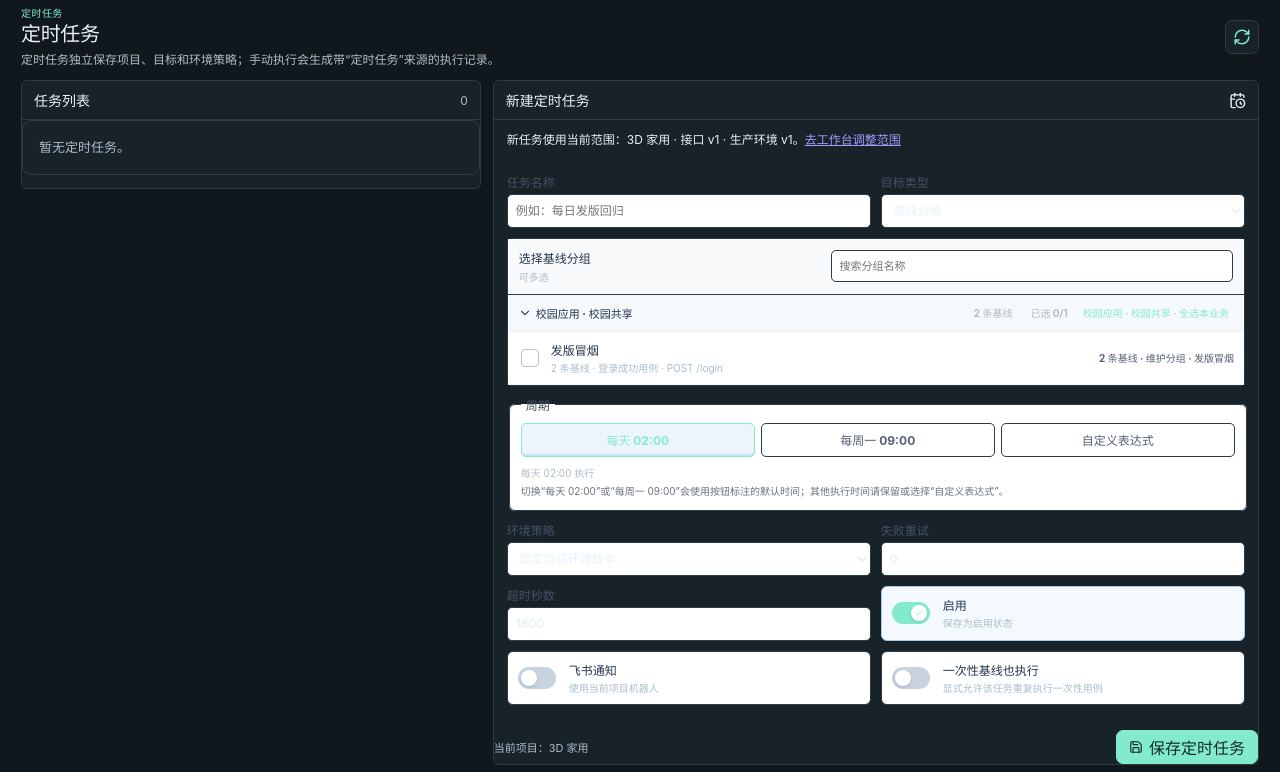
Scenario: ScheduledJobsView › requires and persists an explicit opt-in before scheduling one-time baselines
Step 1. Type "每日含一次性回归" into the field with test id "scheduled-name" → (689, 211), box [507, 194, 871, 228]
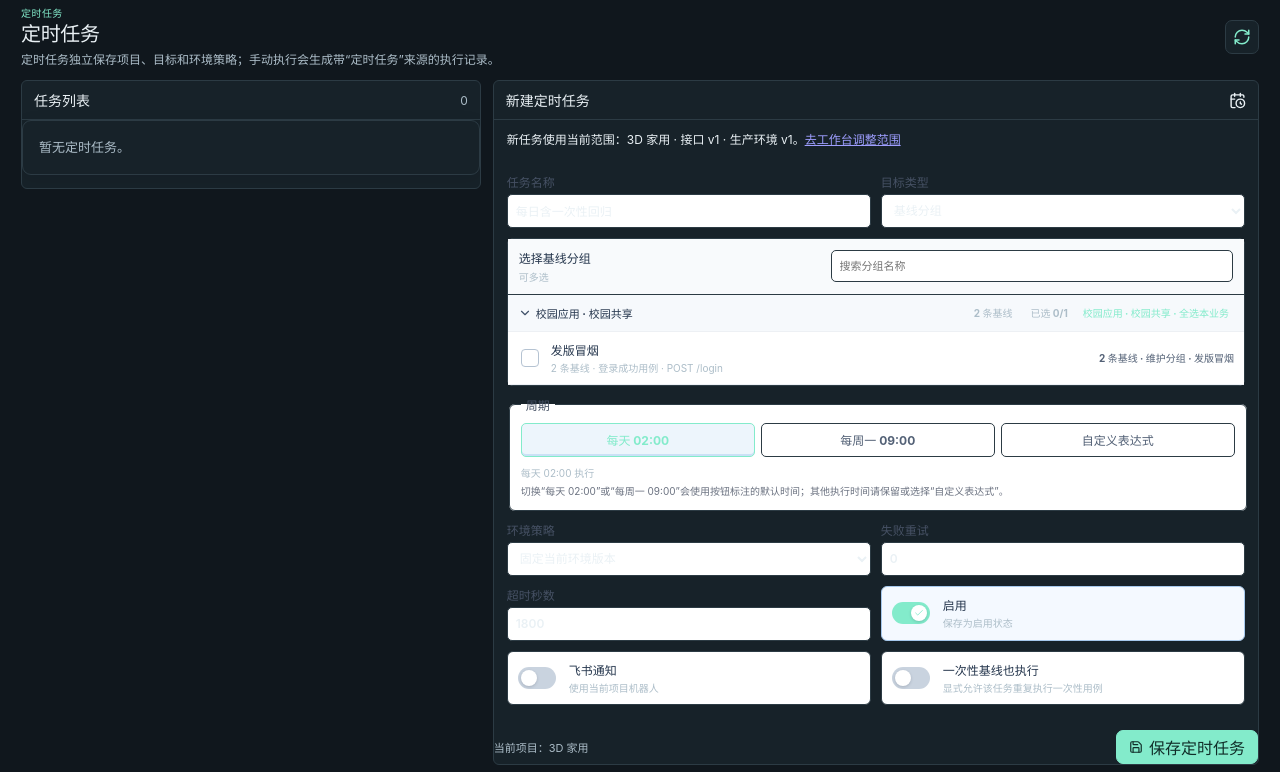
Step 2. Click the button with test id "scheduled-target-option" → (575, 350), box [508, 332, 1244, 384]
(page scrolled)
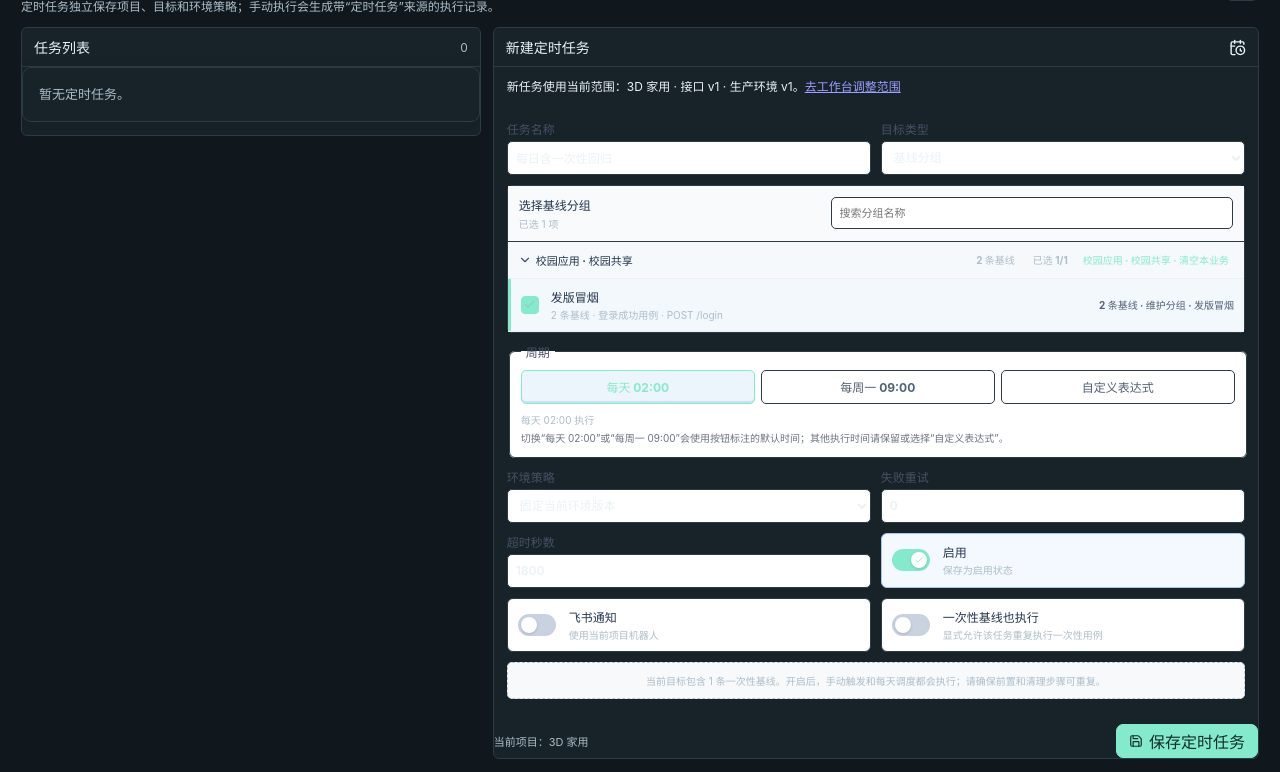
Expected: the text "包含 1 条一次性基线" is shown, [646, 675, 1106, 687]
Step 3. Click the button with test id "scheduled-save" → (1187, 741), box [1116, 724, 1258, 758]
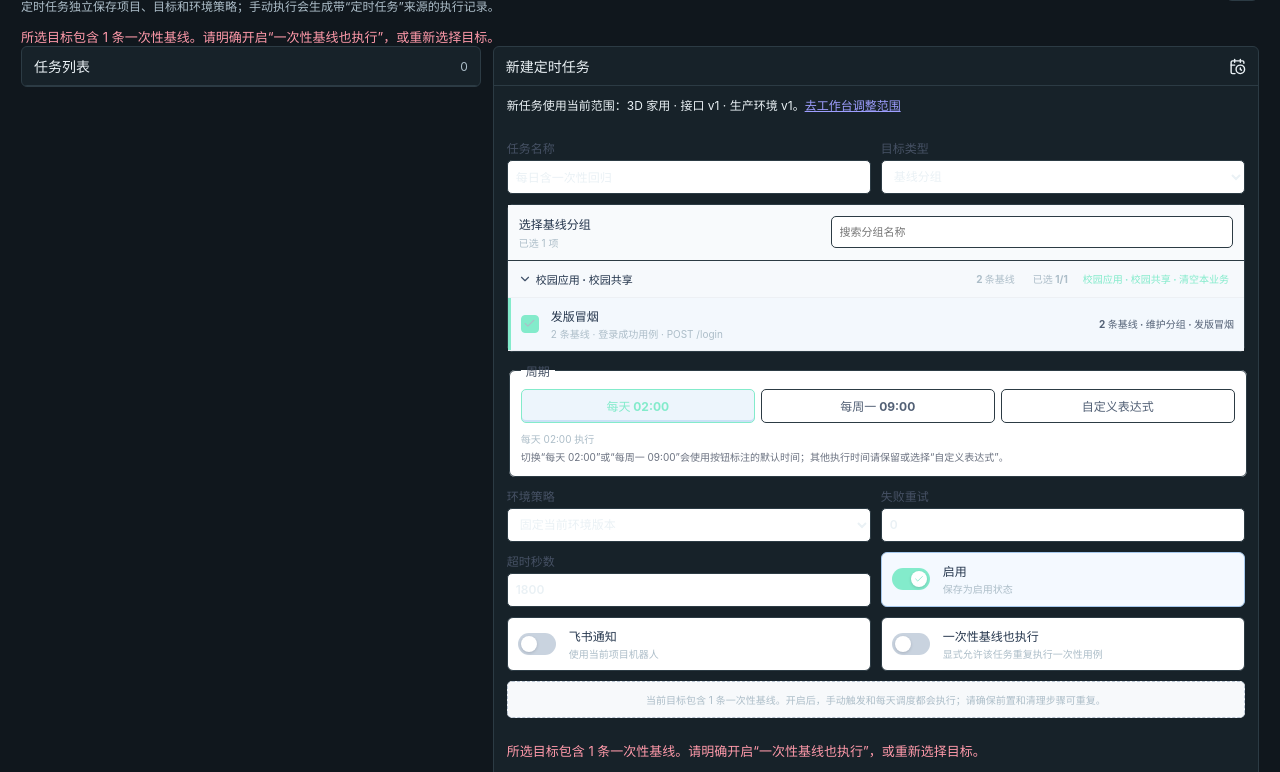
Expected: the message with test id "scheduled-editor-feedback" shows "请明确开启", [507, 743, 986, 759]
Step 4. Click the switch with test id "scheduled-one-time-toggle" → (911, 644), box [881, 617, 1245, 671]
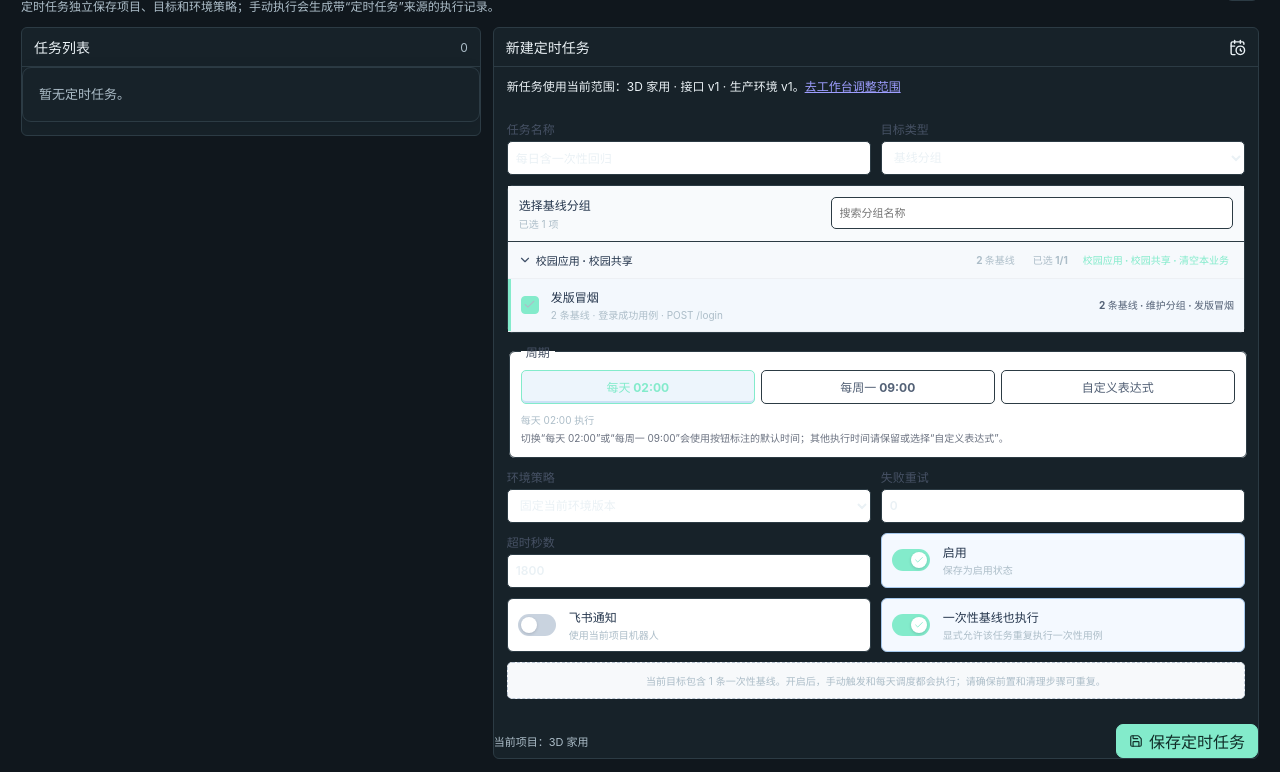
Step 5. Click the button with test id "scheduled-save" → (1187, 741), box [1116, 724, 1258, 758]
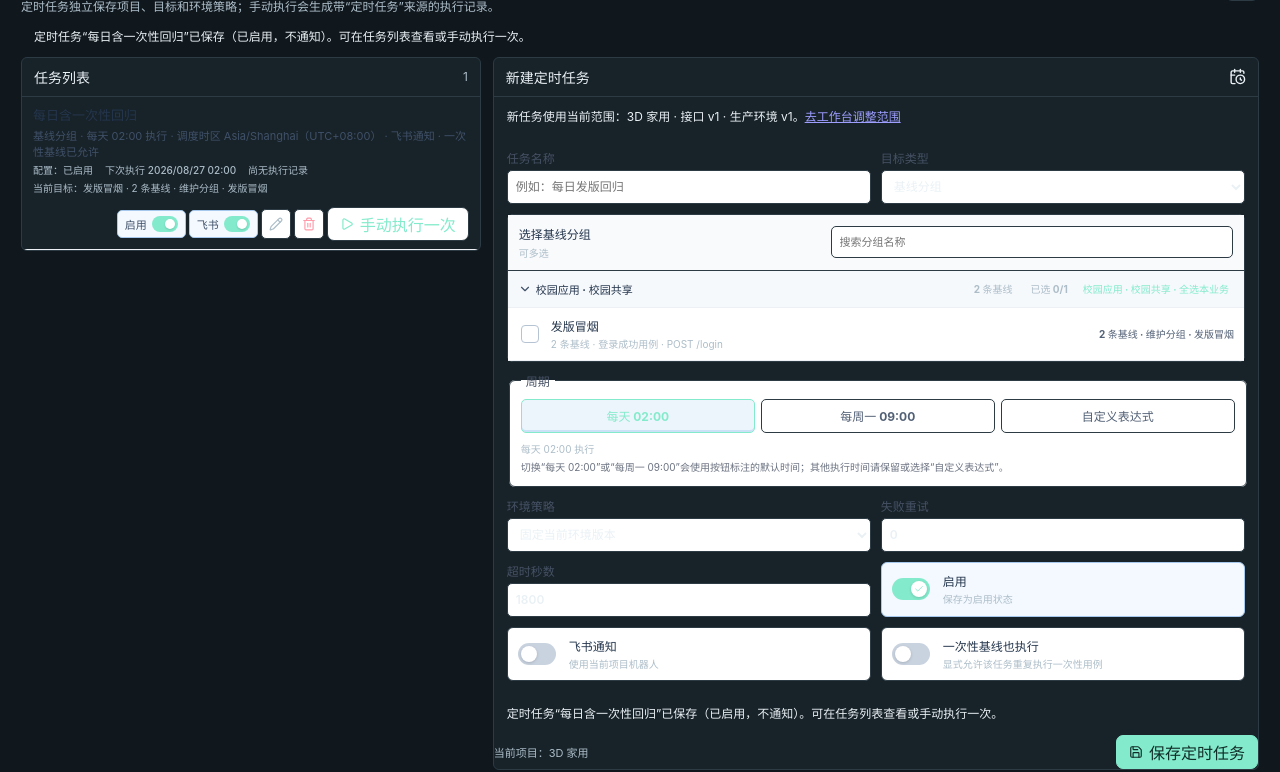
Expected: the text "一次性基线已允许" is shown, [33, 129, 466, 159]
